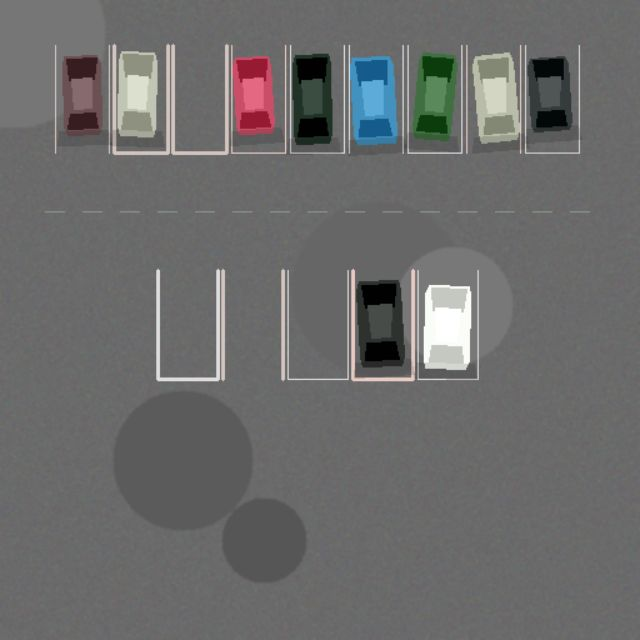space-empty: (158, 270, 218, 379), (222, 270, 282, 379), (288, 270, 348, 379), (172, 45, 226, 153)
space-occupied: (352, 270, 412, 379), (418, 270, 478, 379), (55, 45, 109, 153), (114, 45, 168, 153), (231, 45, 285, 153), (290, 45, 344, 153), (466, 45, 520, 153), (525, 45, 579, 153), (349, 45, 402, 153), (408, 45, 461, 153)
